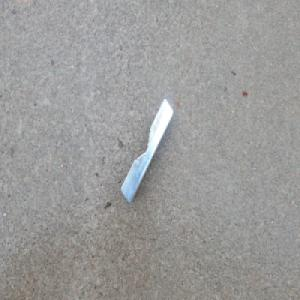ClampPart: (120, 97, 174, 204)
